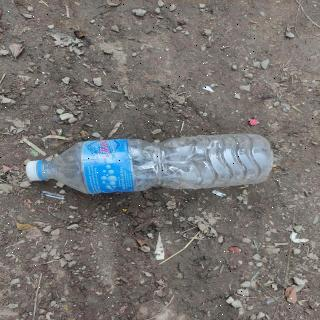Plastic-bottle: (26, 132, 277, 197)
